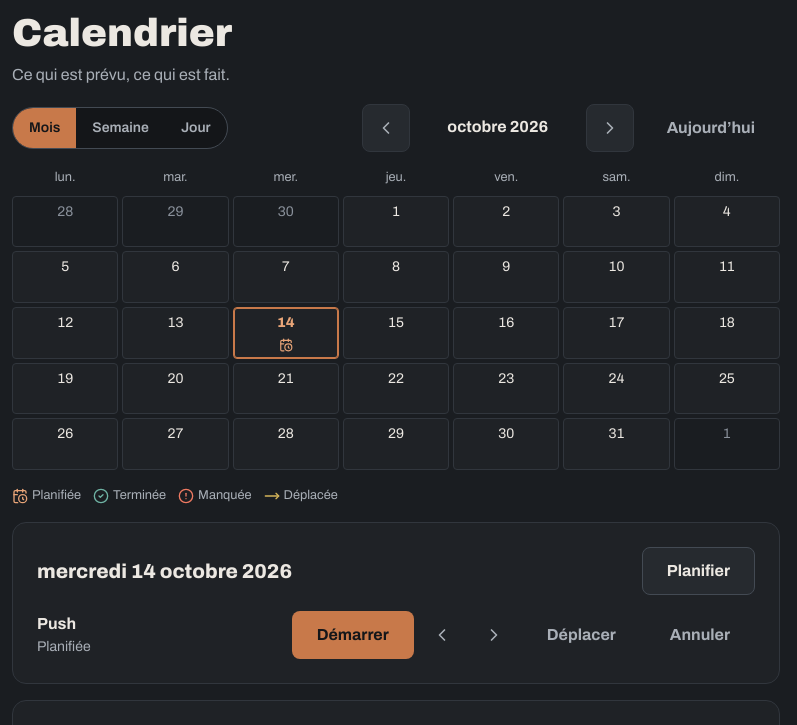
Test: planification depuis le calendrier › reporte une séance d’un jour et garde le jour d’origine
Expected: the 1st button with class "cell" is shown, [12, 196, 118, 247]
Expected: the text with class "day__title" reads "Push", [37, 615, 76, 632]
Click the button named "Reporter Push d’un jour": (494, 635) [470, 611, 518, 659]
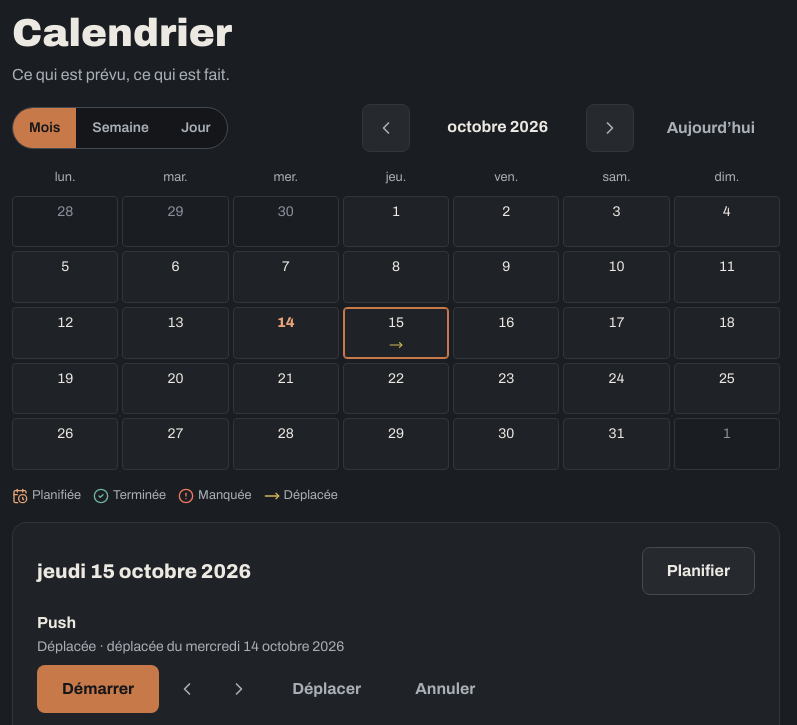
Result: the text with class "day__status" shows "déplacée du mercredi 14 octobre" at [99, 639, 344, 654]
